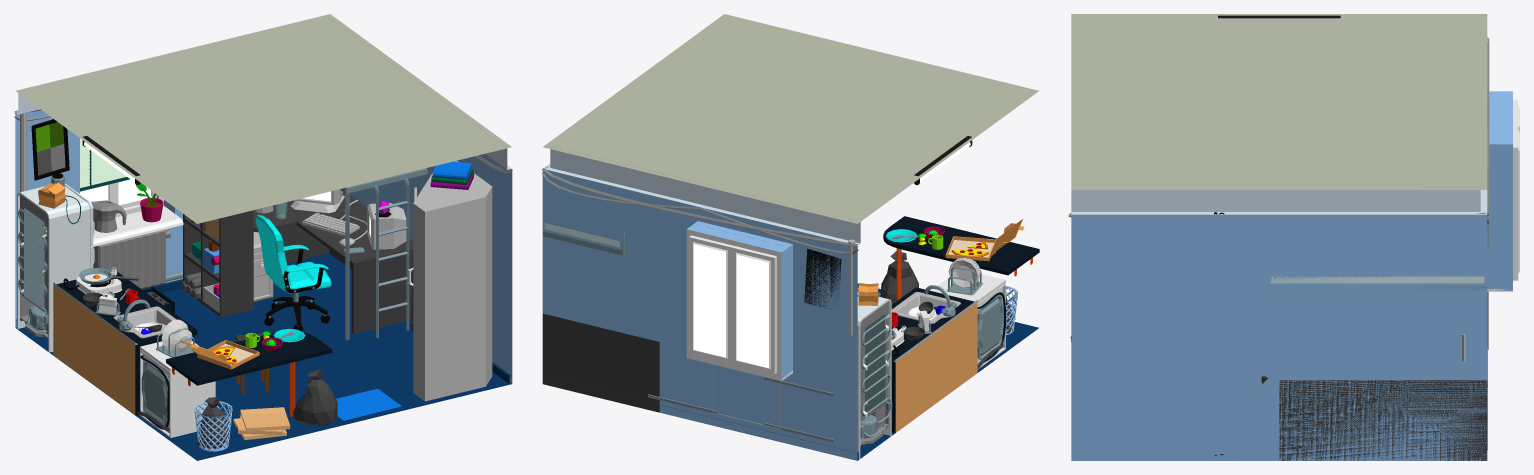
3 renders of one model, left to right at view 1: azimuth 30°, elevation 25°; view 2: azimuth 150°, elevation 25°; view 3: azimuth 270°, elevation 25°, orthographic. The views are drawn at different scales.
Visible parts, largest first — view 1: Box010.001, Box010.001_roof; view 2: Box010.001, Box010.001_roof; view 3: Box010.001, Box010.001_roof, Cube.
Boxes of the visible parts, x1=… form: Box010.001: x1=14, y1=18, x2=512, y2=460; Box010.001_roof: x1=15, y1=14, x2=511, y2=223; Box010.001: x1=541, y1=19, x2=1039, y2=460; Box010.001_roof: x1=543, y1=14, x2=1038, y2=223; Box010.001: x1=1068, y1=37, x2=1519, y2=460; Box010.001_roof: x1=1071, y1=14, x2=1487, y2=189; Cube: x1=1218, y1=15, x2=1340, y2=18.
Size of the model in its own units: 711 by 512 by 760.
Materials: 10 (1 with a texture image).
